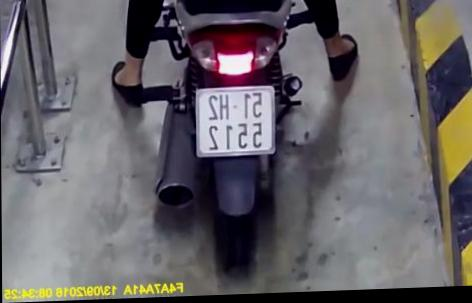License_Plate: (190, 82, 279, 162)
